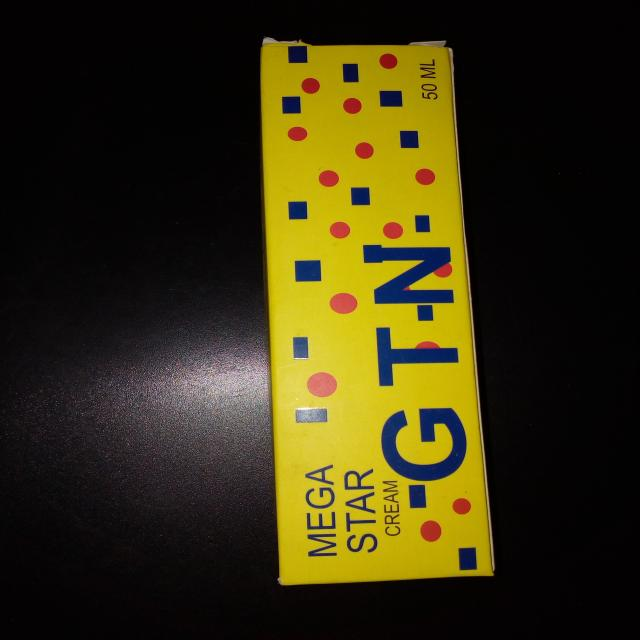Medicine: (251, 34, 509, 594)
